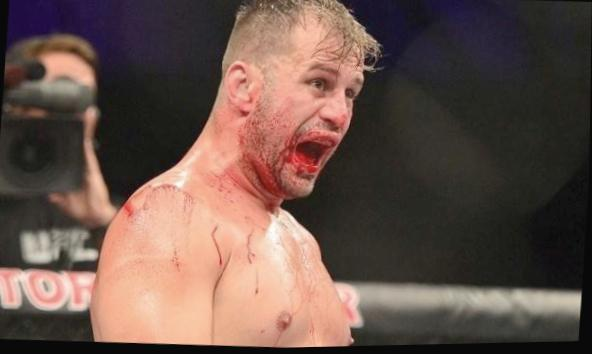Fire: (204, 93, 352, 214), (104, 183, 194, 246), (242, 218, 265, 265), (212, 225, 222, 266)
